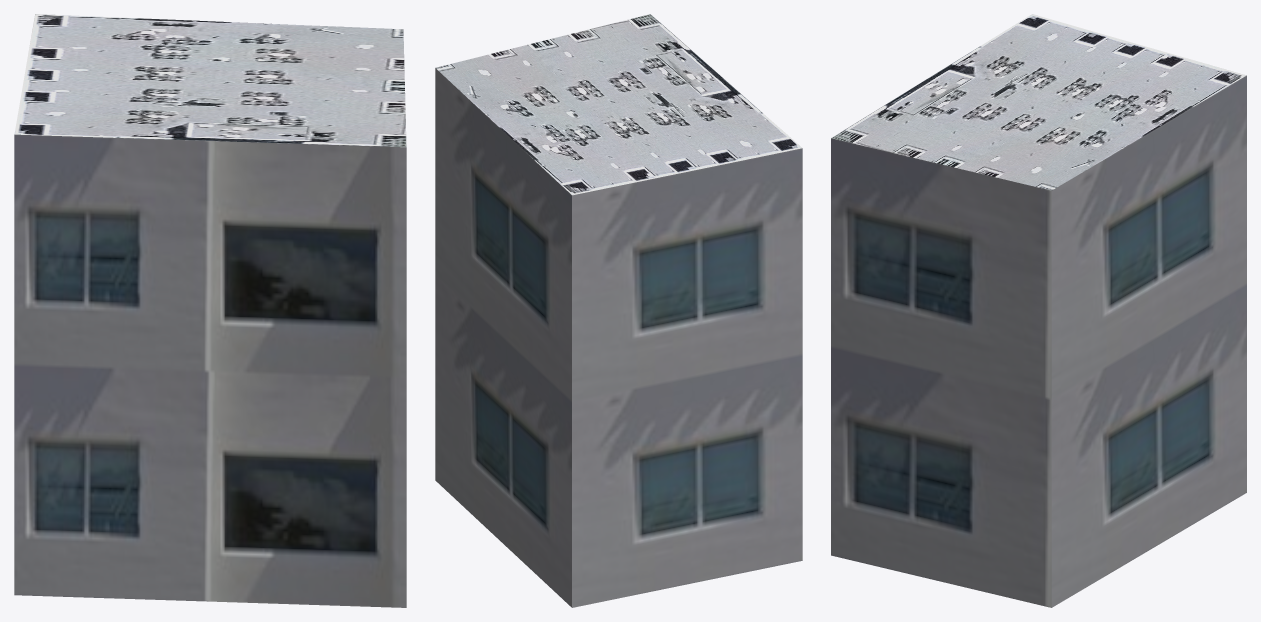
File: ResTex__3188.fbx
The picture shows the model from 3 angles, left to right: view 1: azimuth 30°, elevation 25°; view 2: azimuth 150°, elevation 25°; view 3: azimuth 270°, elevation 25°; orthographic projection. The views are drawn at different scales.
Visible parts, largest first — view 1: CityEngineMaterial_10_m, CityEngineMaterial_4_m; view 2: CityEngineMaterial_10_m, CityEngineMaterial_4_m; view 3: CityEngineMaterial_10_m, CityEngineMaterial_4_m.
Boxes of the visible parts, left/top/right/bottom form: CityEngineMaterial_10_m: left=14, top=134, right=406, bottom=607; CityEngineMaterial_4_m: left=14, top=14, right=406, bottom=147; CityEngineMaterial_10_m: left=435, top=68, right=802, bottom=607; CityEngineMaterial_4_m: left=435, top=14, right=802, bottom=195; CityEngineMaterial_10_m: left=831, top=75, right=1246, bottom=607; CityEngineMaterial_4_m: left=831, top=14, right=1246, bottom=190.
Bounding box in the file's own units: 5.45 × 6 × 5.42.
Materials: 2 (2 with a texture image).
